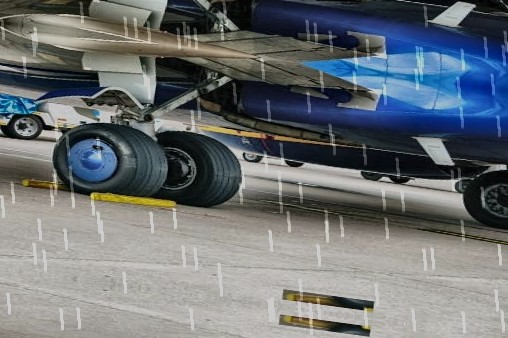chock: (89, 189, 181, 212), (282, 289, 374, 312), (279, 315, 371, 337), (19, 176, 101, 196)
wheel: (46, 115, 172, 203), (141, 127, 247, 211), (458, 165, 508, 232), (0, 111, 44, 142), (453, 178, 471, 194), (241, 152, 262, 163), (0, 124, 17, 137), (360, 171, 382, 181), (388, 175, 410, 184), (284, 159, 303, 168), (41, 124, 56, 130)
